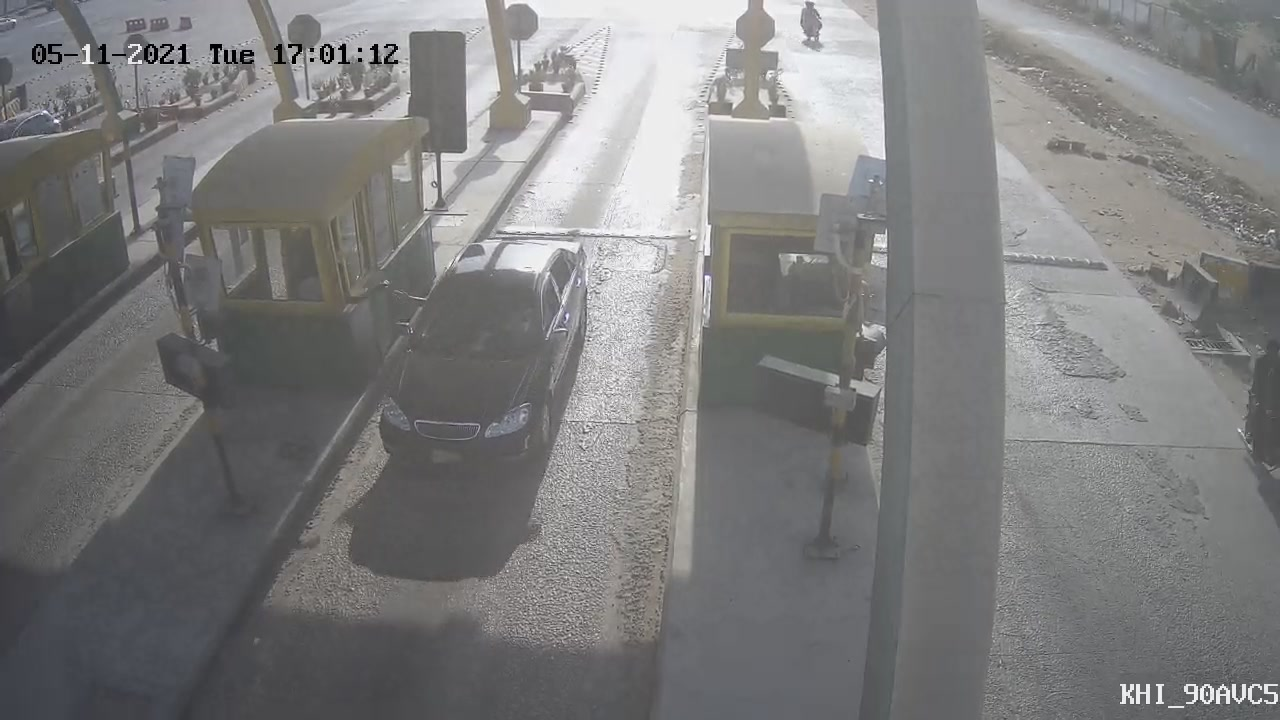F1: (348, 208, 611, 505)
